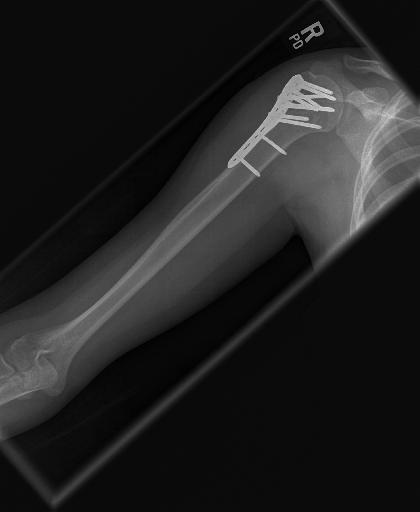implant: (227, 72, 336, 171)
